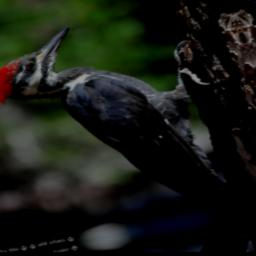Woodpecker: (0, 4, 256, 246)
